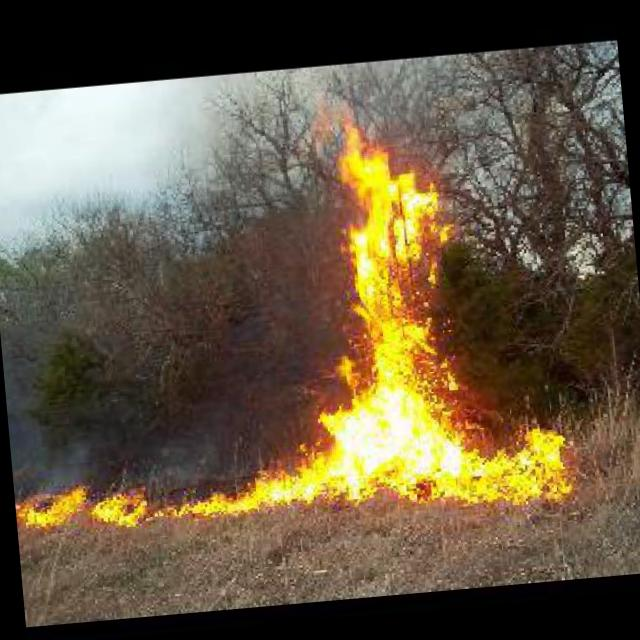fire: (0, 82, 578, 549)
